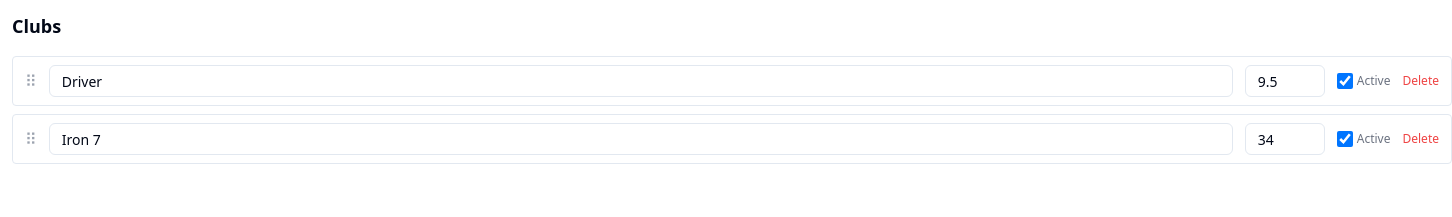
Test: ClubListClient › reverts name on updateClubAction error
Replace the text in the 1st field named "club name" with "New Name" at (641,81), box [49,65,1233,97]
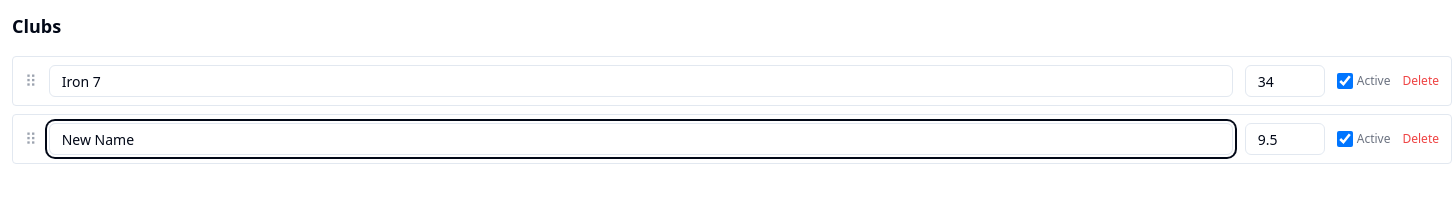
Leave the 2nd field named "club name", box [49,123,1233,155]
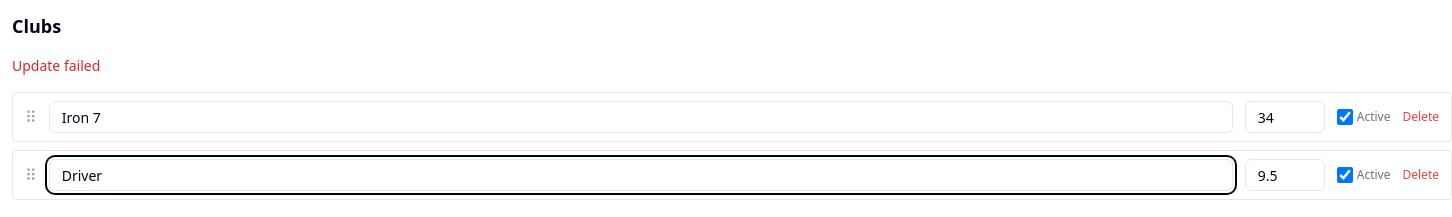
Now the 2nd field named "club name" holds "Driver", box [49,159,1233,191]
Now the text "Update failed" is shown, box [12,56,100,75]
